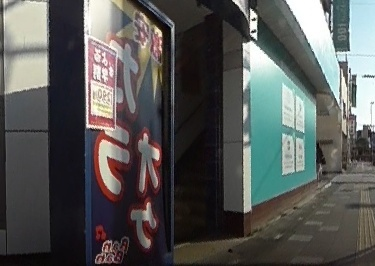person: (316, 141, 326, 176)
